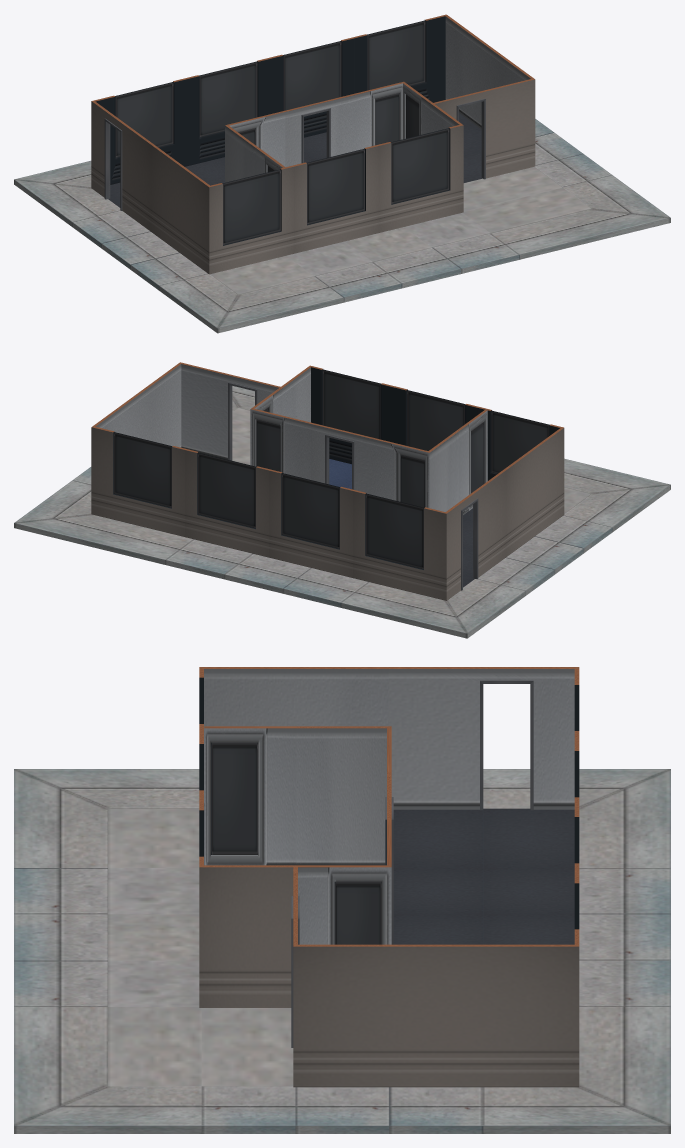
The model's file is homeoffice2.fbx.
The picture shows the model from 3 angles, top to bottom: view 1: azimuth 30°, elevation 25°; view 2: azimuth 150°, elevation 25°; view 3: azimuth 270°, elevation 25°; orthographic projection. The views are drawn at different scales.
Visible parts, largest first — view 1: walls, floor, windows_PASS1; view 2: walls, floor, windows_PASS1; view 3: floor, walls, windows_PASS1.
Part boxes in pixels (<box>): walls: <box>91,14,535,274</box>; floor: <box>14,113,670,333</box>; windows_PASS1: <box>115,20,449,244</box>; walls: <box>91,362,564,600</box>; floor: <box>14,386,670,638</box>; windows_PASS1: <box>114,369,549,569</box>; floor: <box>14,769,670,1133</box>; walls: <box>199,667,579,1087</box>; windows_PASS1: <box>211,742,381,944</box>.
Bounding box in the file's own units: 1646 × 320 × 1280.
Materials: 1 (1 with a texture image).
